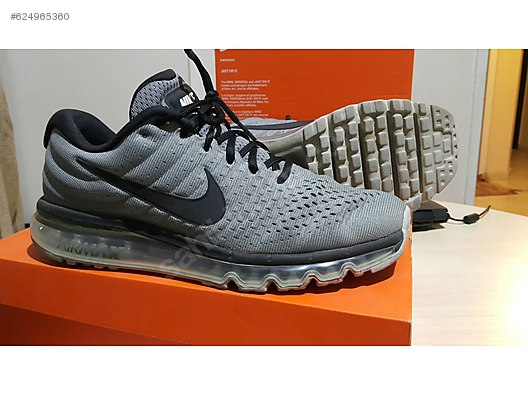nike: (91, 156, 228, 225)
